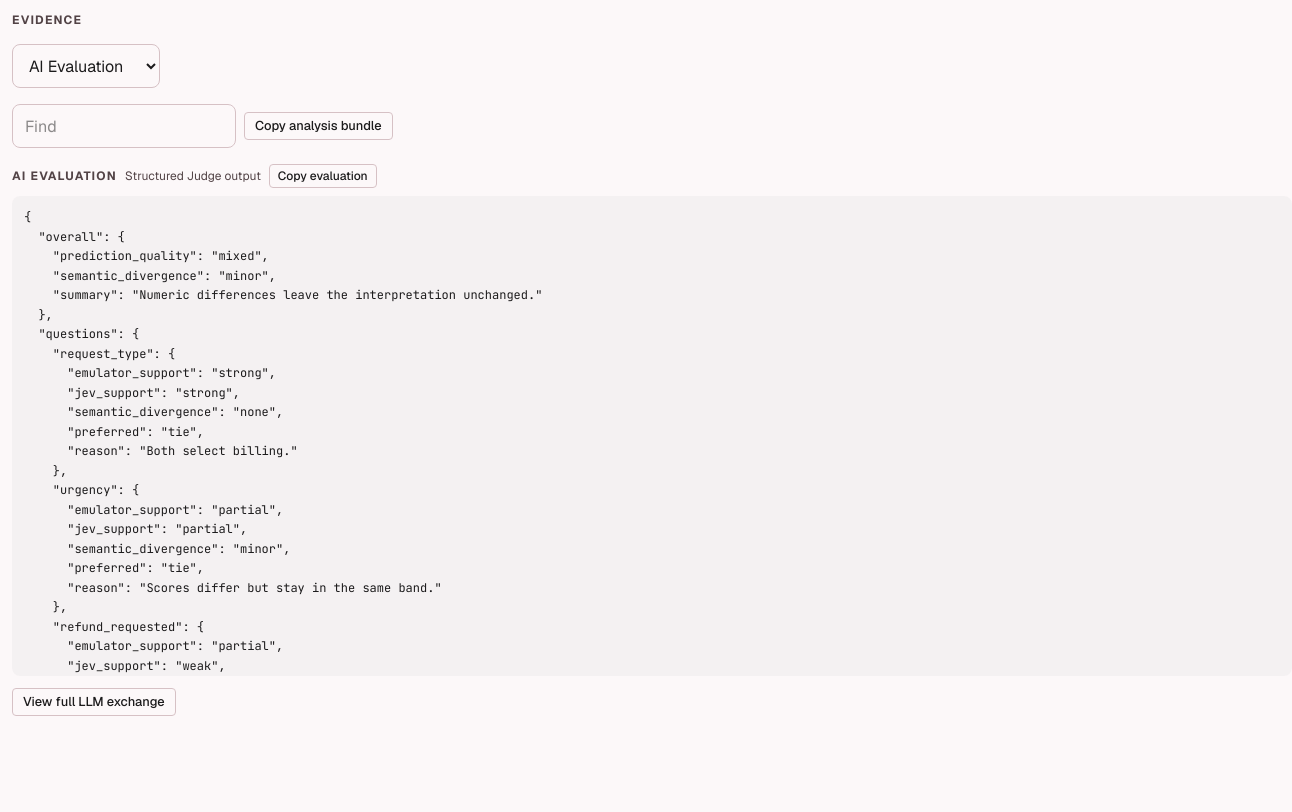
Test case: EvidenceView — Full LLM Exchange (§45) › keeps the exchange hidden by default, then reveals the six blocks with copy actions
Click the button "View full LLM exchange" at (94, 702), box [12,688,176,716]
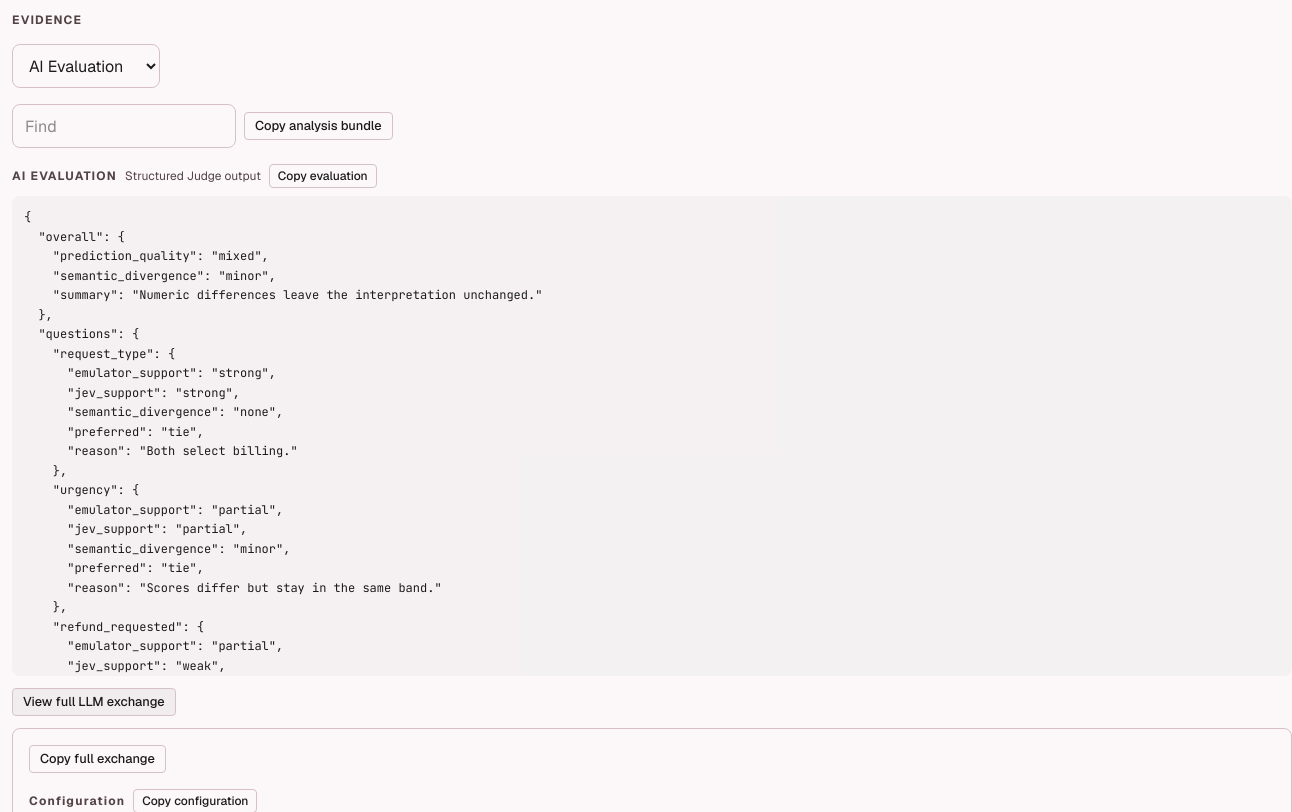
Now the text "Configuration" is shown, box [29,793,125,809]
Now the button "Copy configuration" is shown, box [133,789,257,811]
Now the button "Copy full exchange" is shown, box [29,745,166,773]
